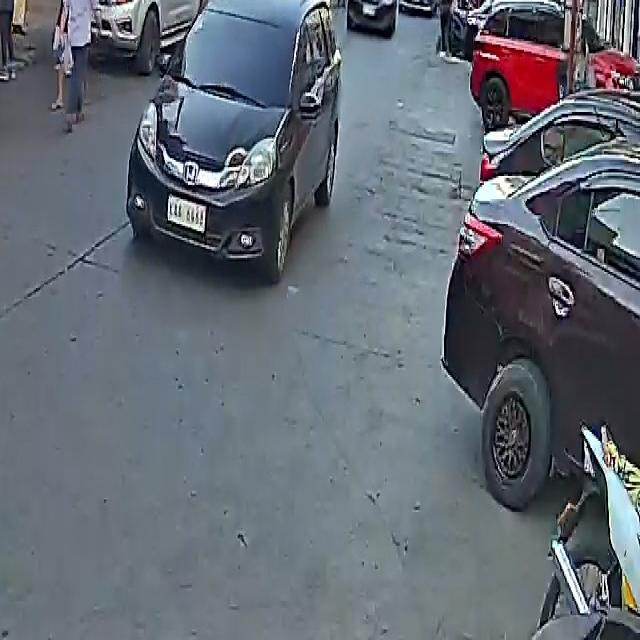car: (445, 99, 640, 521), (125, 0, 347, 276), (468, 0, 640, 128), (83, 0, 219, 76), (351, 0, 402, 32), (396, 0, 439, 9)
